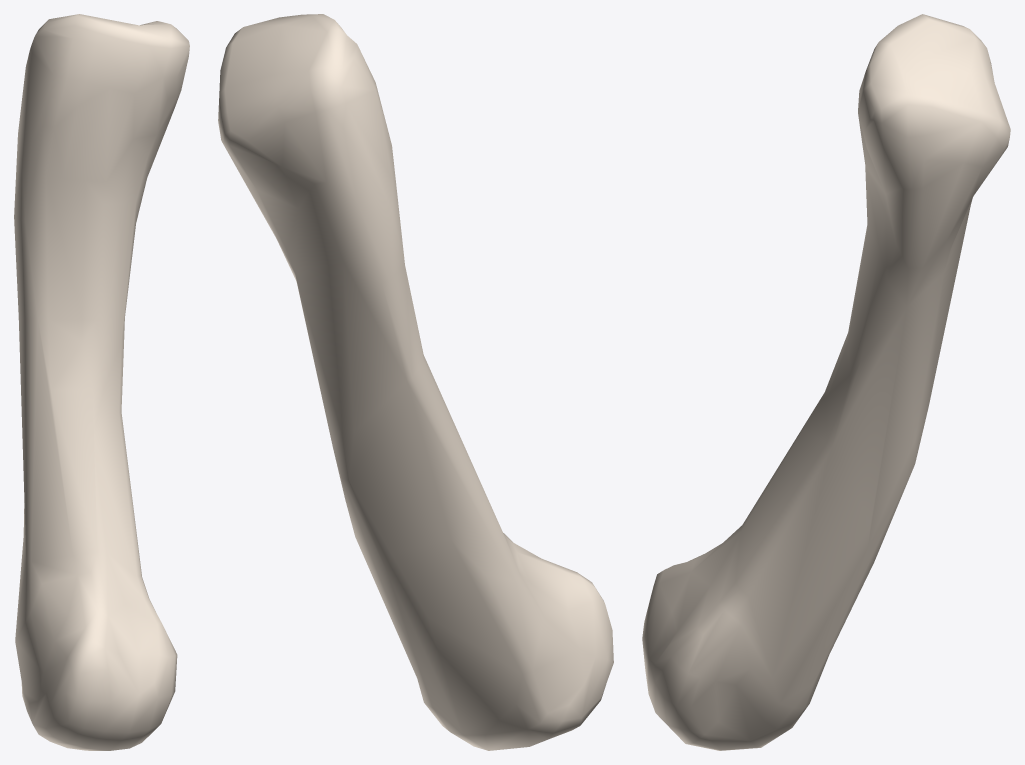
File: left_metacarpal_5.glb
The picture shows the model from 3 angles, left to right: view 1: azimuth 30°, elevation 25°; view 2: azimuth 150°, elevation 25°; view 3: azimuth 270°, elevation 25°; orthographic projection. The views are drawn at different scales.
Visible parts, largest first — view 1: 5th metacarpal bone.r; view 2: 5th metacarpal bone.r; view 3: 5th metacarpal bone.r.
Part boxes in pixels (x1,y1,x2,y2): 5th metacarpal bone.r: (14,14,189,750); 5th metacarpal bone.r: (218,14,613,750); 5th metacarpal bone.r: (642,14,1010,750).
Size of the model in its own units: 0.0205 by 0.0567 by 0.0248.
